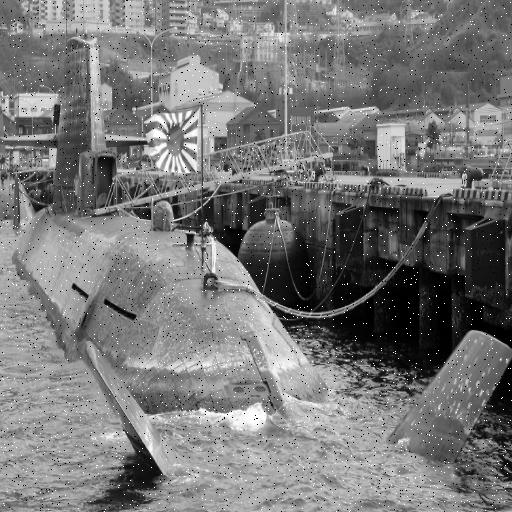submarine: (1, 31, 512, 487)
